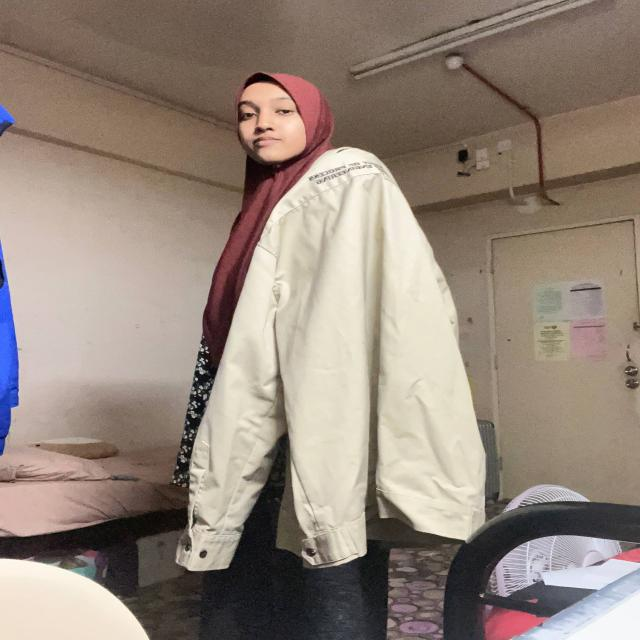person_without_labcoat: (176, 72, 485, 640)
